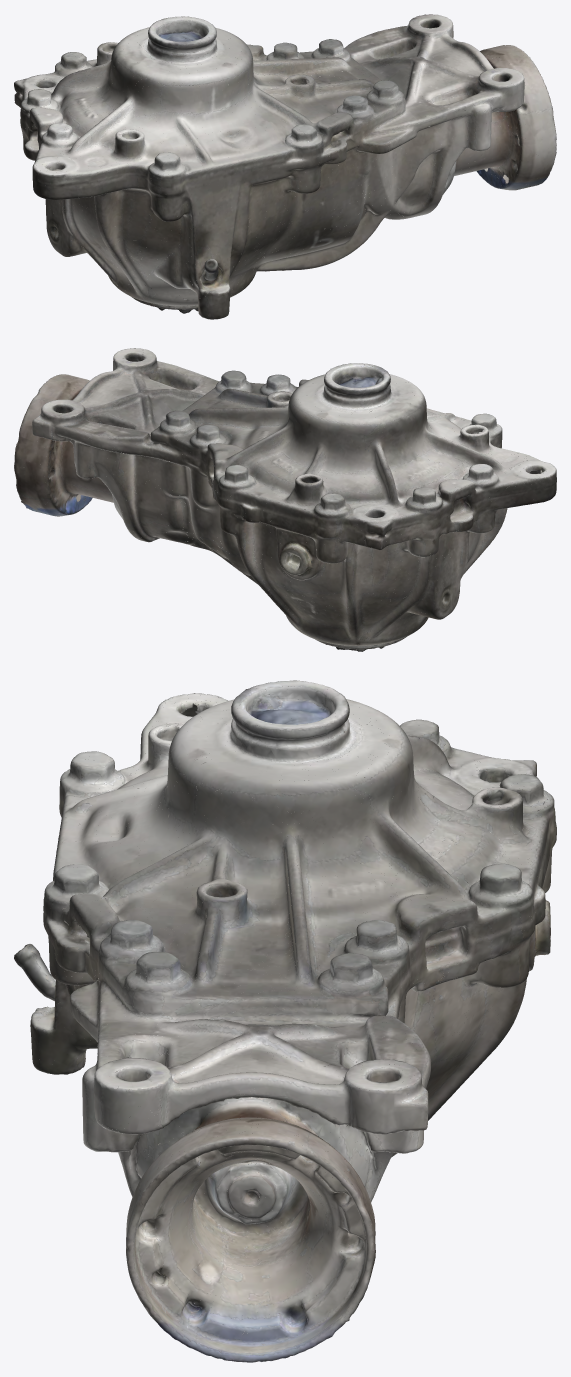
File: differential-assembly.glb
The picture shows the model from 3 angles, top to bottom: view 1: azimuth 30°, elevation 25°; view 2: azimuth 150°, elevation 25°; view 3: azimuth 270°, elevation 25°; orthographic projection. The views are drawn at different scales.
Parts seen in each view (by area): view 1: Object_3, Object_4, Object_5, Object_2, Object_6; view 2: Object_3, Object_5, Object_4, Object_2, Object_6; view 3: Object_4, Object_5, Object_3, Object_2, Object_6.
Boxes of the visible parts, x1,y1,x2,y2 form: Object_3: (14, 16, 556, 319); Object_4: (22, 26, 556, 311); Object_5: (14, 14, 554, 318); Object_2: (16, 14, 556, 313); Object_6: (19, 16, 551, 305); Object_3: (19, 363, 543, 647); Object_5: (14, 348, 555, 649); Object_4: (21, 348, 556, 649); Object_2: (14, 348, 556, 651); Object_6: (14, 352, 555, 651); Object_4: (22, 687, 556, 1362); Object_5: (18, 684, 555, 1362); Object_3: (16, 680, 556, 1341); Object_2: (14, 689, 539, 1362); Object_6: (46, 688, 551, 1350).
Size of the model in its own units: 37.14 by 18.94 by 20.11.
1 material, 1 textured.
